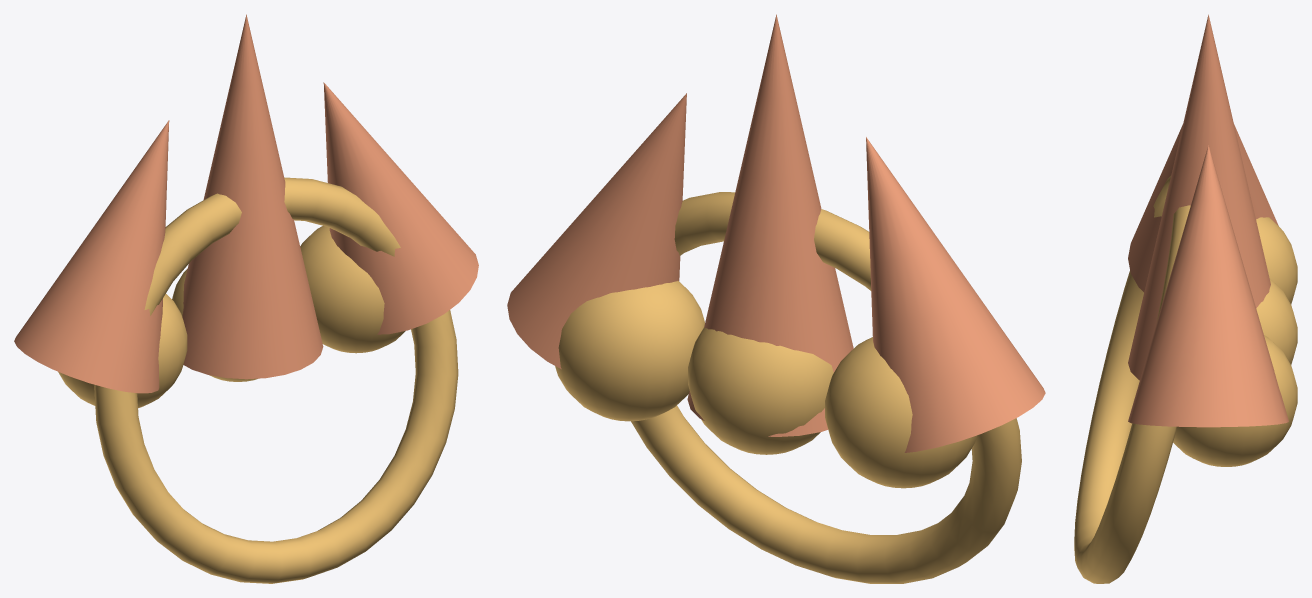
Rendered from thorns.glb.
3 views of the same model, side by side, from view 1: azimuth 30°, elevation 25°; view 2: azimuth 150°, elevation 25°; view 3: azimuth 270°, elevation 25° (orthographic). The views are drawn at different scales.
Parts seen in each view (by area): view 1: ShoulderCuff, _MeshInstance3D_9, SoftSpine, _MeshInstance3D_11, _MeshInstance3D_12, Rivet; view 2: ShoulderCuff, SoftSpine, _MeshInstance3D_9, _MeshInstance3D_11, _MeshInstance3D_12, _MeshInstance3D_10, Rivet; view 3: _MeshInstance3D_11, ShoulderCuff, _MeshInstance3D_9, _MeshInstance3D_12, SoftSpine, Rivet, _MeshInstance3D_10.
Part boxes in pixels (x1,y1,x2,y2): ShoulderCuff: (94,177,458,583); _MeshInstance3D_9: (182,14,323,379); SoftSpine: (14,120,169,393); _MeshInstance3D_11: (323,82,478,334); _MeshInstance3D_12: (300,226,405,353); Rivet: (58,294,187,408); ShoulderCuff: (631,192,1021,583); SoftSpine: (866,137,1045,452); _MeshInstance3D_9: (687,14,853,436); _MeshInstance3D_11: (507,93,686,369); _MeshInstance3D_12: (555,281,704,421); _MeshInstance3D_10: (688,327,833,454); Rivet: (825,337,977,488); _MeshInstance3D_11: (1128,145,1288,427); ShoulderCuff: (1074,175,1190,583); _MeshInstance3D_9: (1128,14,1270,380); _MeshInstance3D_12: (1173,335,1297,466); SoftSpine: (1128,124,1278,292); Rivet: (1256,217,1297,304); _MeshInstance3D_10: (1256,278,1297,364).
Bounding box in the file's own units: 0.0599 × 0.0677 × 0.0249.
